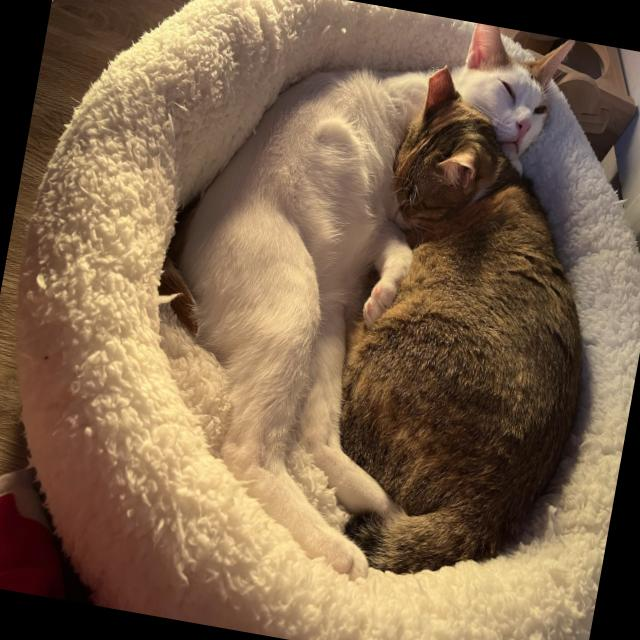cat1: (106, 0, 578, 602)
cat2: (330, 66, 640, 589)
